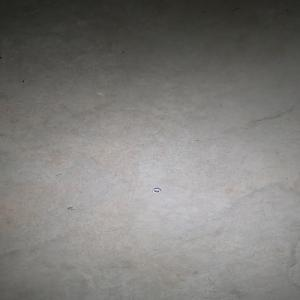Nut: (152, 187, 161, 193)
